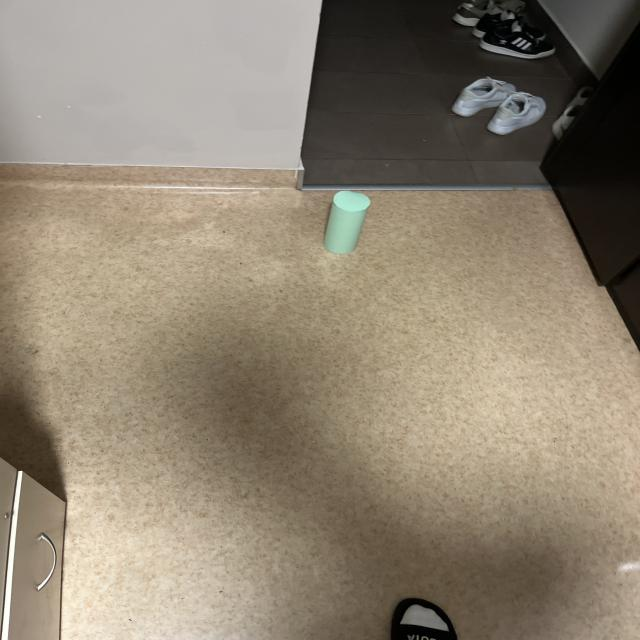meta: (324, 191, 370, 254)
